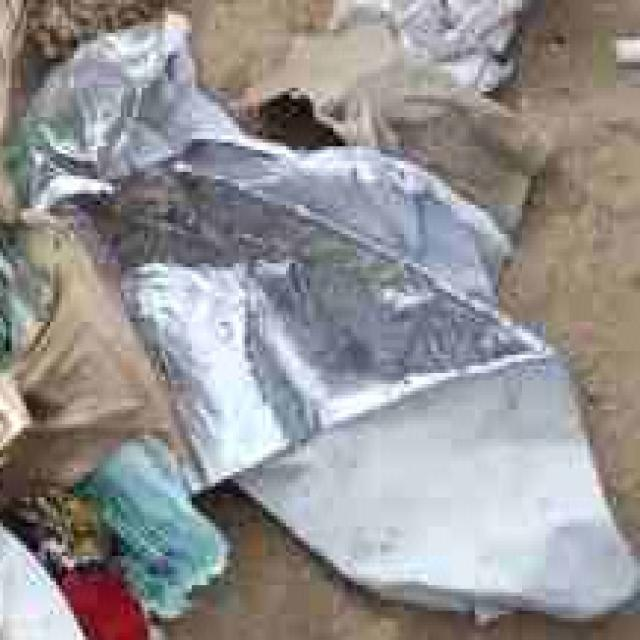giay: (239, 358, 640, 616), (215, 29, 546, 207), (0, 260, 171, 496)
kim_loai: (27, 33, 549, 492)
